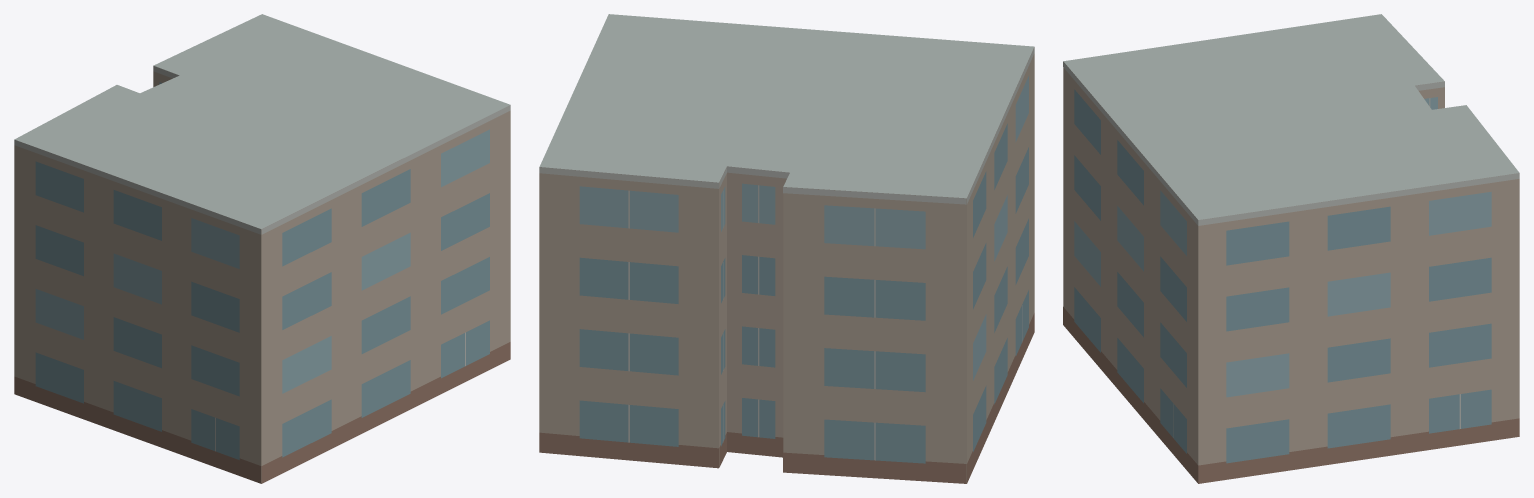
Rendered from survey-upis-32568623.glb.
3 views of the same model, side by side, from view 1: azimuth 30°, elevation 25°; view 2: azimuth 150°, elevation 25°; view 3: azimuth 270°, elevation 25° (orthographic). The views are drawn at different scales.
Parts seen in each view (by area): view 1: survey-upis-32568623.tmp; view 2: survey-upis-32568623.tmp; view 3: survey-upis-32568623.tmp.
Part boxes in pixels (x1,y1,x2,y2): survey-upis-32568623.tmp: (14, 14, 510, 483); survey-upis-32568623.tmp: (539, 14, 1034, 483); survey-upis-32568623.tmp: (1063, 14, 1519, 483).
Bounding box in the file's own units: 18.51 × 11.04 × 17.33.
